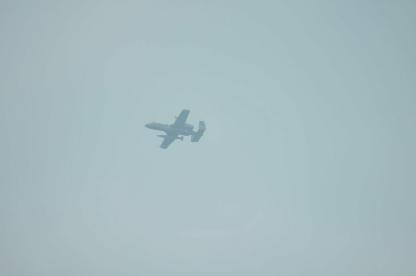A10: (144, 108, 206, 148)
